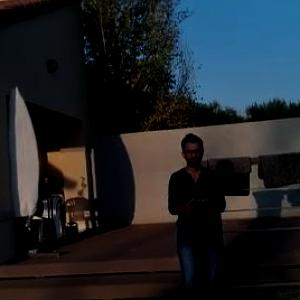follow: (161, 125, 230, 299)
